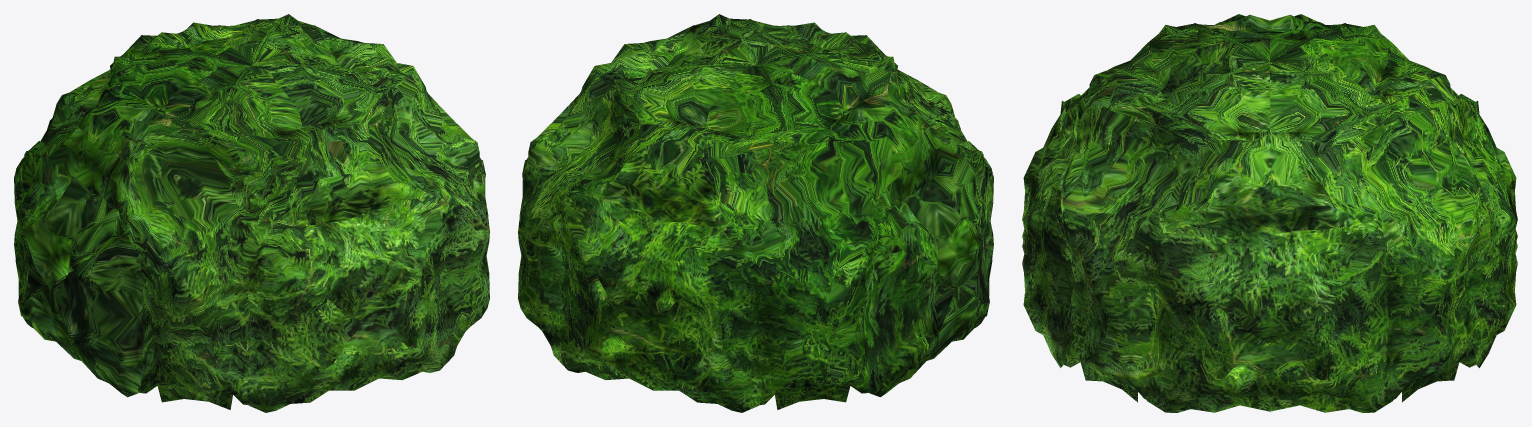
File: busch.DAE
3 renders of one model, left to right at view 1: azimuth 30°, elevation 25°; view 2: azimuth 150°, elevation 25°; view 3: azimuth 270°, elevation 25°, orthographic. The views are drawn at different scales.
Parts seen in each view (by area): view 1: Geosph_re001; view 2: Geosph_re001; view 3: Geosph_re001.
Part boxes in pixels (x1,y1,x2,y2): Geosph_re001: (14,14,489,412); Geosph_re001: (518,14,993,412); Geosph_re001: (1022,14,1517,412).
Size of the model in its own units: 68.69 by 68.69 by 41.17.
